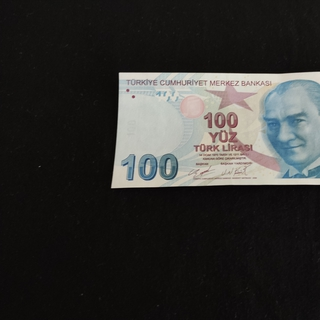100TLFront: (110, 69, 320, 188)
